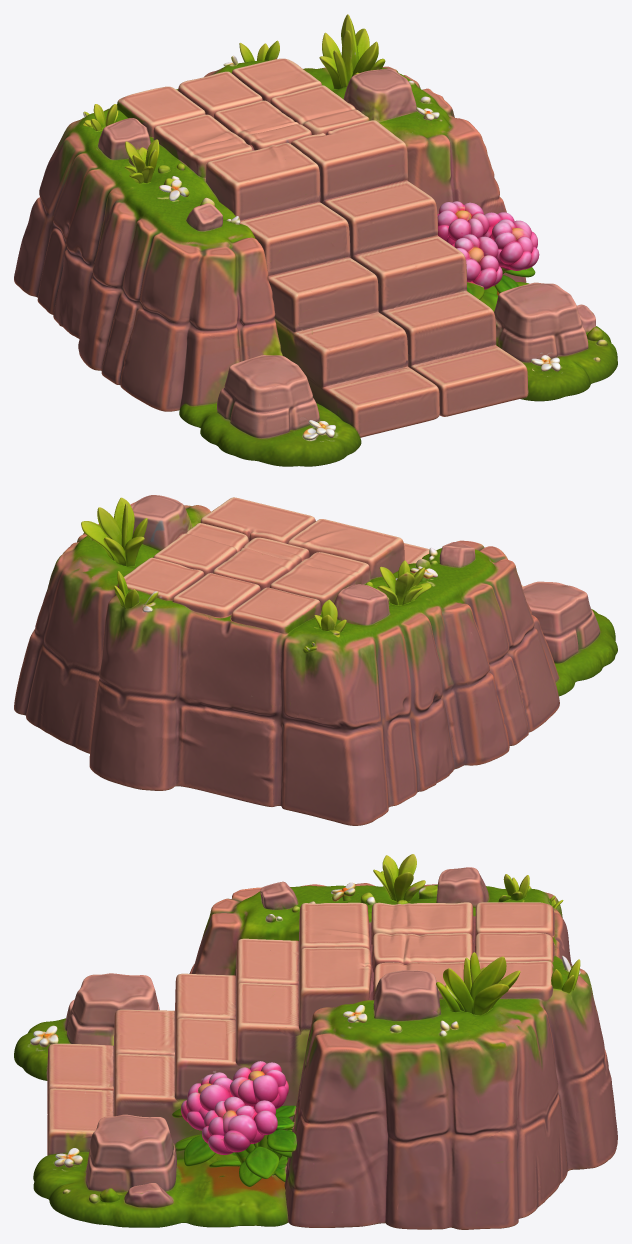
The model's file is stone-stairs-wide-01.glb.
3 renders of one model, top to bottom at view 1: azimuth 30°, elevation 25°; view 2: azimuth 150°, elevation 25°; view 3: azimuth 270°, elevation 25°, orthographic. The views are drawn at different scales.
Size of the model in its own units: 1.6 by 0.7969 by 1.9.
1 material, 1 textured.
